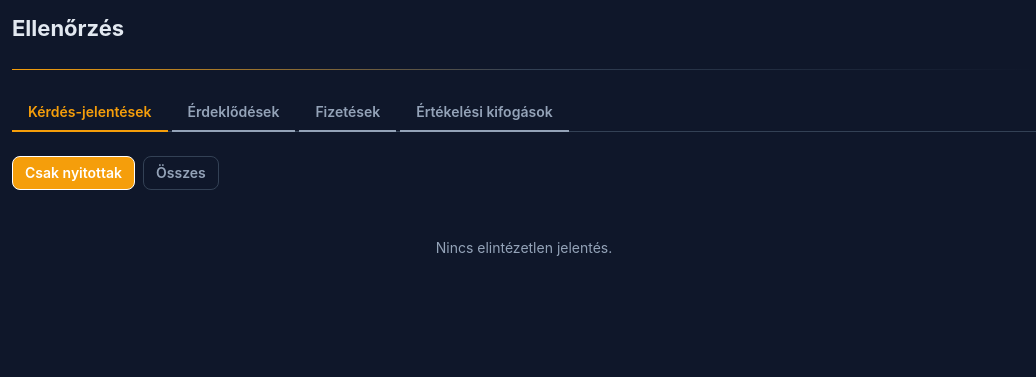
Test: AdminEllenorzesComponent - A5: kérdés-jelentések admin nézet › az Érdeklődések fülre kattintva betölti az érdeklődéseket
Click the tab "Érdeklődések" at (233, 113), box [172, 94, 295, 132]
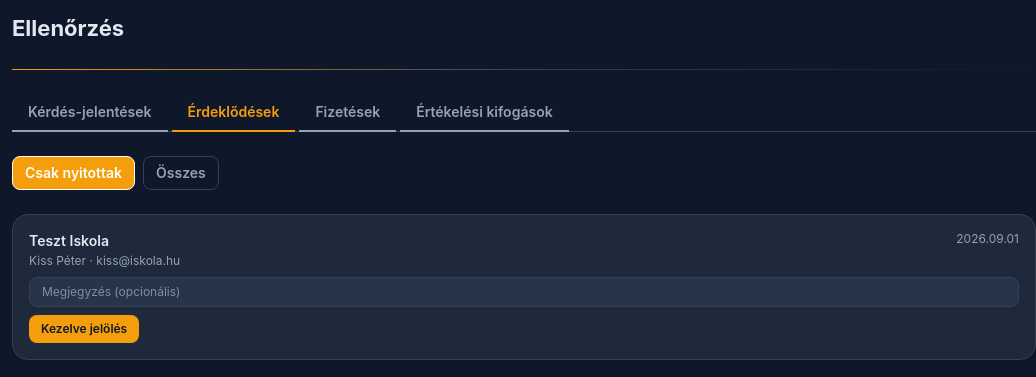
Expected: the text "Teszt Iskola" is shown, [29, 232, 109, 249]
